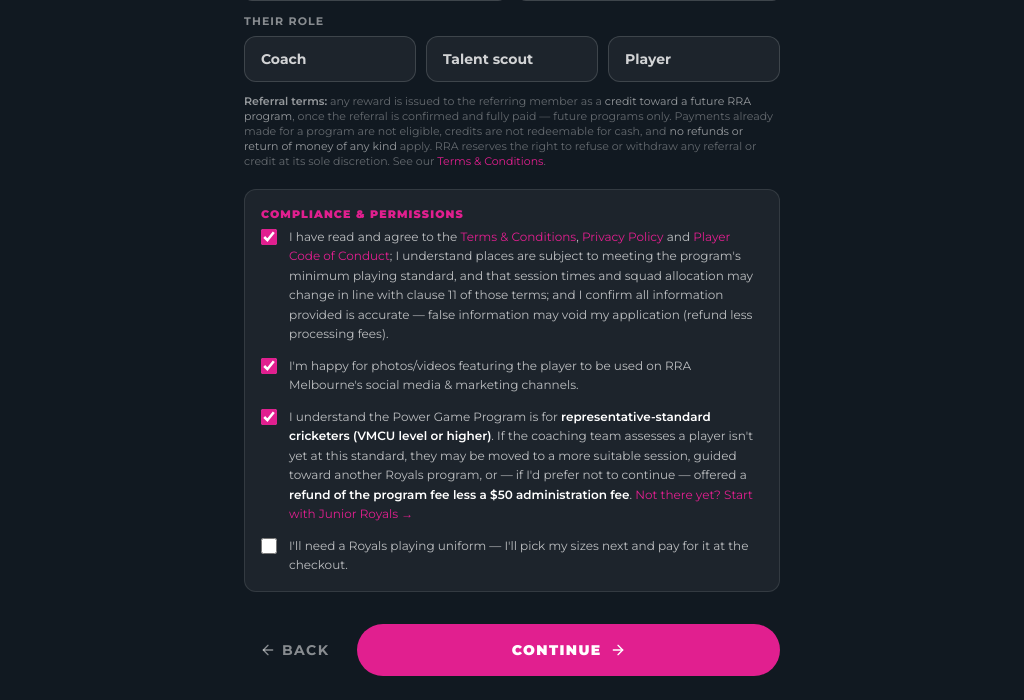
Test case: ApplyFlow — clean form → pay flow › seeded session is full → the form can't proceed and surfaces an error
(page scrolled)
Click the button "Continue": (569, 650) [357,624,780,676]
(page scrolled)
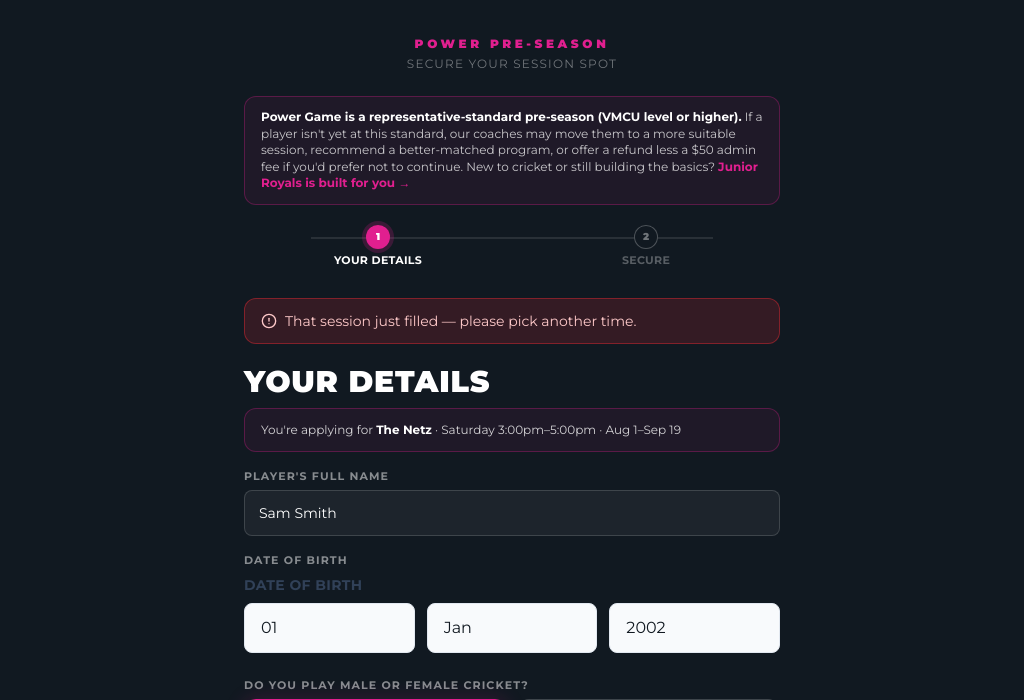
Check: the text "That session just filled — please pick another time." is shown, box [285,310,636,330]
